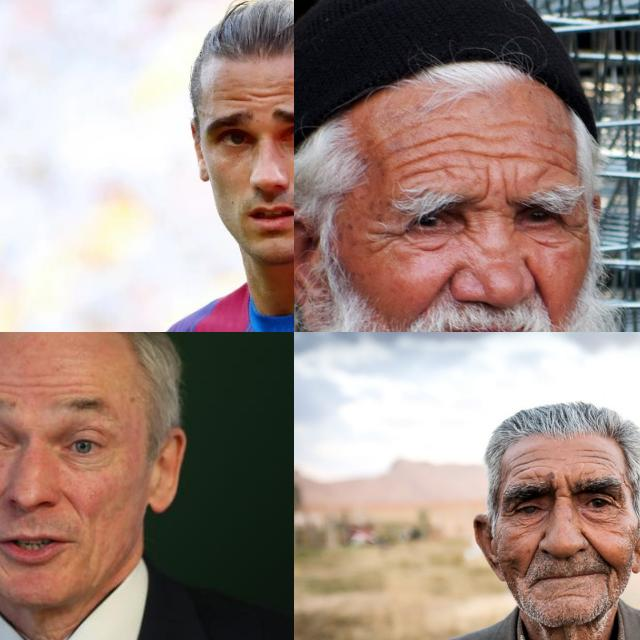chin: (552, 590, 588, 602), (0, 558, 11, 583)
crows_feet: (373, 221, 409, 249), (560, 216, 594, 240), (499, 502, 515, 522), (613, 498, 627, 514)
forehead: (541, 137, 581, 183), (396, 141, 442, 179), (221, 86, 294, 108), (451, 128, 484, 172), (491, 130, 527, 170), (34, 376, 78, 396), (508, 450, 544, 474), (582, 446, 614, 466), (0, 376, 20, 392)
frown_line: (499, 176, 517, 204), (479, 176, 495, 206), (562, 473, 574, 499)
gummy_smile: (522, 257, 552, 315), (425, 264, 455, 306), (580, 532, 608, 564), (526, 531, 542, 573), (57, 487, 79, 515), (0, 481, 7, 518)
